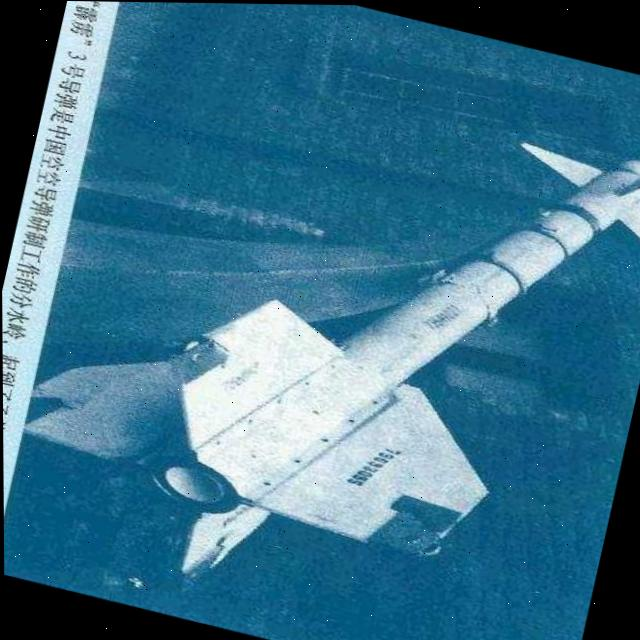missile: (9, 19, 640, 640)
